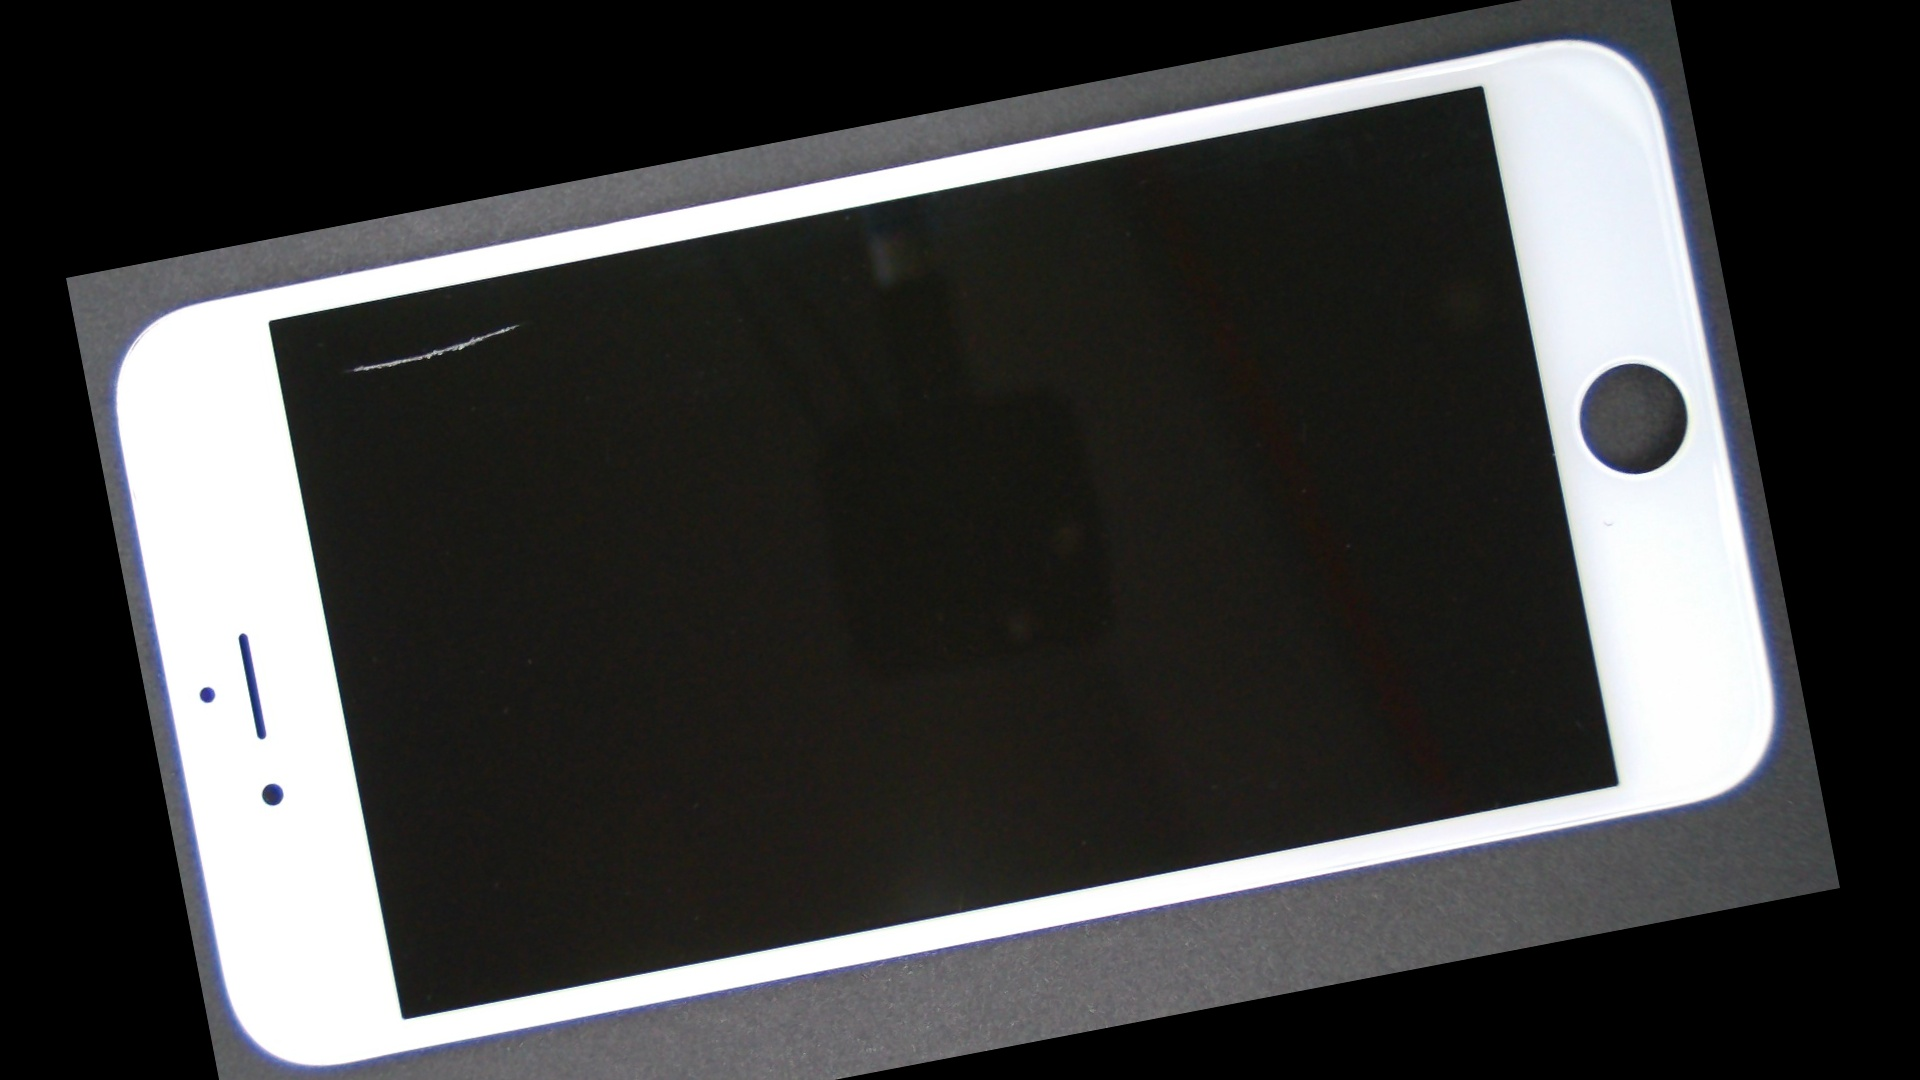oil: (291, 219, 742, 430)
